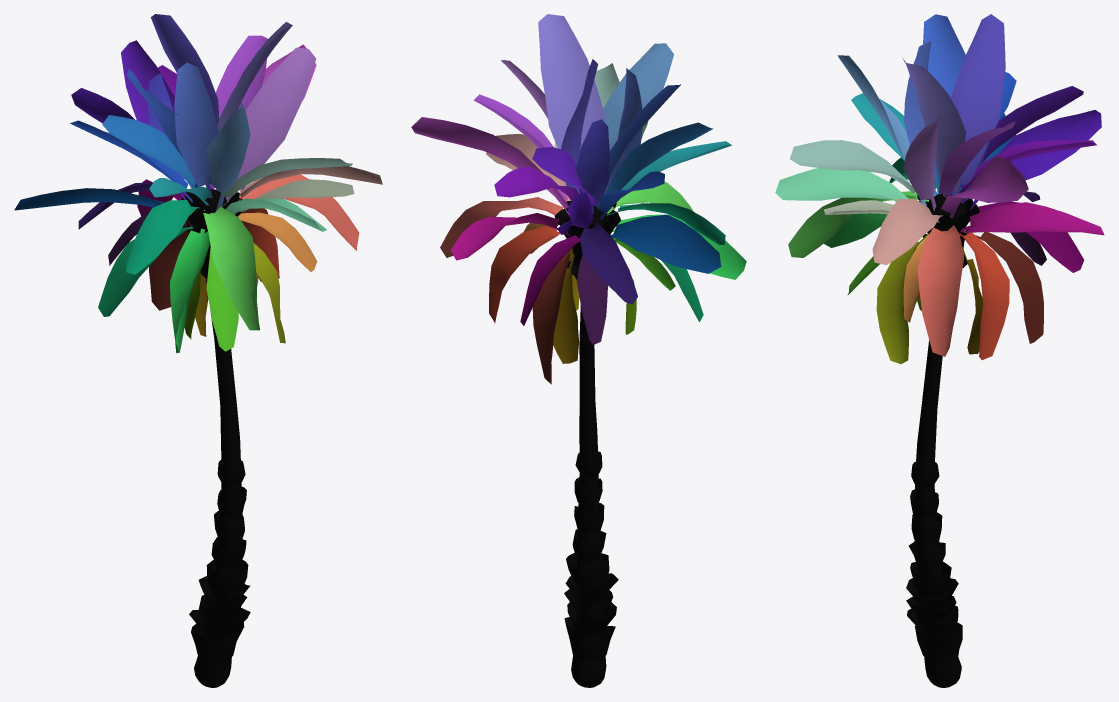
Rendered from Palm.FBX.
The picture shows the model from 3 angles, left to right: view 1: azimuth 30°, elevation 25°; view 2: azimuth 150°, elevation 25°; view 3: azimuth 270°, elevation 25°; orthographic projection. The views are drawn at different scales.
Parts seen in each view (by area): view 1: Palm; view 2: Palm; view 3: Palm.
Boxes of the visible parts, <box> form: Palm: <box>14,14,382,687</box>; Palm: <box>411,14,746,687</box>; Palm: <box>775,14,1104,687</box>.
Size of the model in its own units: 790 by 719 by 1578.
